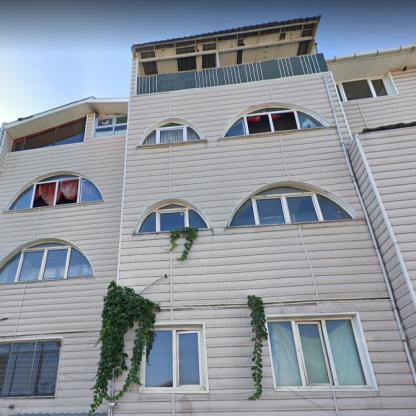window: (267, 319, 367, 387), (230, 186, 352, 226), (0, 241, 94, 282), (144, 330, 202, 388), (9, 173, 102, 209), (0, 340, 60, 394), (225, 107, 324, 137), (11, 116, 85, 152), (138, 203, 208, 232), (335, 76, 390, 102), (143, 122, 200, 144), (94, 115, 127, 137)
